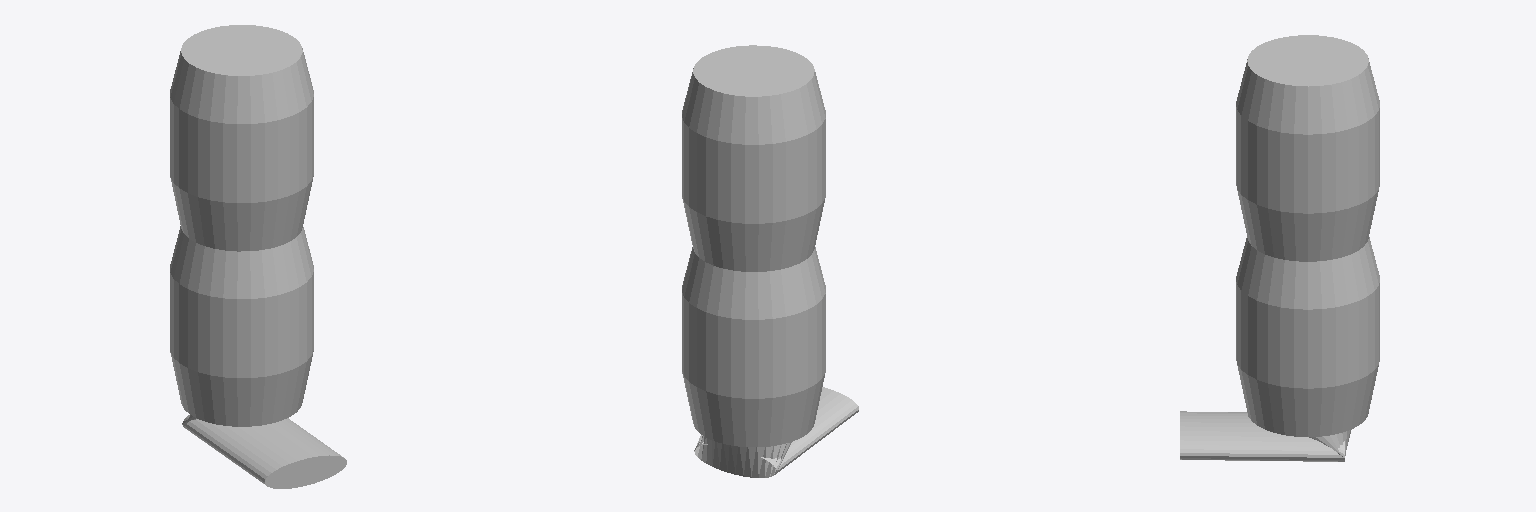
File: Leg.obj
3 renders of one model, left to right at view 1: azimuth 30°, elevation 25°; view 2: azimuth 150°, elevation 25°; view 3: azimuth 270°, elevation 25°, orthographic.
Parts seen in each view (by area): view 1: Cylinder.004_Cylinder.005; view 2: Cylinder.004_Cylinder.005; view 3: Cylinder.004_Cylinder.005.
Part boxes in pixels (x1,y1,x2,y2): Cylinder.004_Cylinder.005: (170, 25, 346, 488); Cylinder.004_Cylinder.005: (682, 45, 858, 477); Cylinder.004_Cylinder.005: (1180, 35, 1379, 461).
Bounding box in the file's own units: 1.35 × 4.03 × 1.88.